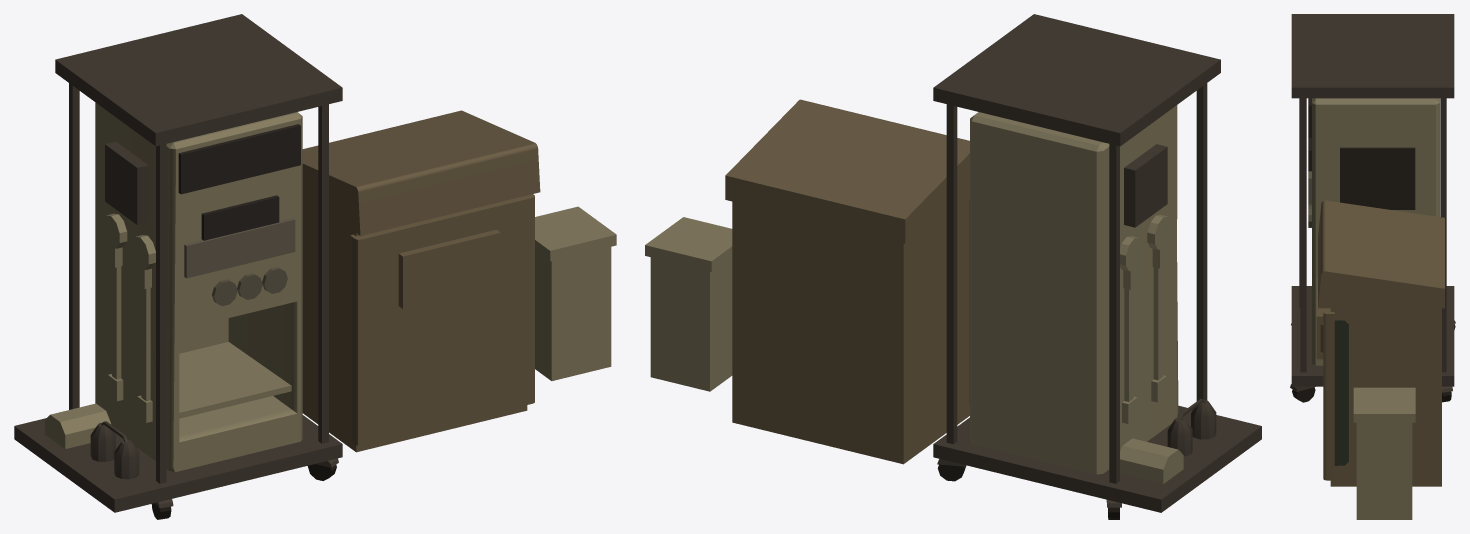
File: pipe room things.fbx
The picture shows the model from 3 angles, left to right: view 1: azimuth 30°, elevation 25°; view 2: azimuth 150°, elevation 25°; view 3: azimuth 270°, elevation 25°; orthographic projection. The views are drawn at different scales.
Parts seen in each view (by area): view 1: pCylinder17, polySurface6, pCube1; view 2: pCylinder17, polySurface6, pCube1; view 3: pCylinder17, polySurface6, pCube1.
Boxes of the visible parts, x1=… form: pCylinder17: x1=14, y1=14, x2=342, y2=519; polySurface6: x1=302, y1=110, x2=540, y2=452; pCube1: x1=535, y1=206, x2=616, y2=380; pCylinder17: x1=933, y1=14, x2=1261, y2=519; polySurface6: x1=725, y1=99, x2=969, y2=464; pCube1: x1=645, y1=217, x2=732, y2=391; pCylinder17: x1=1290, y1=14, x2=1455, y2=402; polySurface6: x1=1316, y1=200, x2=1444, y2=486; pCube1: x1=1353, y1=387, x2=1415, y2=519.
Bounding box in the file's own units: 16.01 × 11.12 × 5.27.
